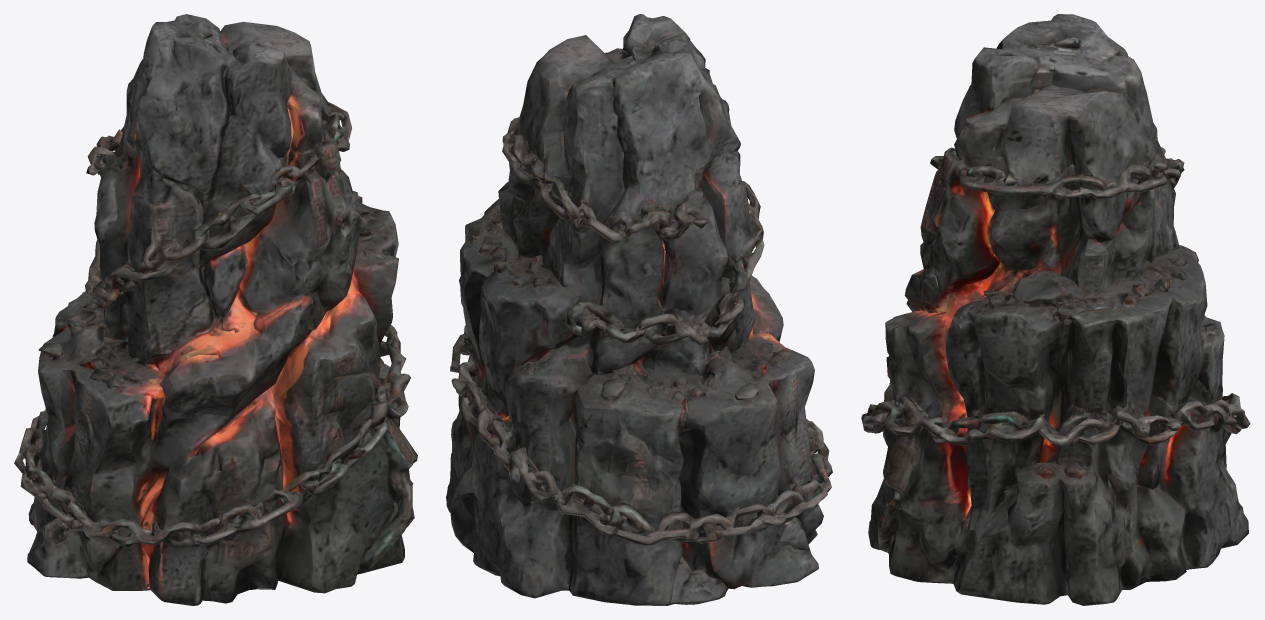
The model's file is lava-obelisk.glb.
The picture shows the model from 3 angles, left to right: view 1: azimuth 30°, elevation 25°; view 2: azimuth 150°, elevation 25°; view 3: azimuth 270°, elevation 25°; orthographic projection. The views are drawn at different scales.
Visible parts, largest first — view 1: geometry_0; view 2: geometry_0; view 3: geometry_0.
Boxes of the visible parts, x1=… form: geometry_0: x1=14, y1=14, x2=417, y2=605; geometry_0: x1=446, y1=14, x2=832, y2=605; geometry_0: x1=861, y1=14, x2=1250, y2=605.
Size of the model in its own units: 0.3295 by 0.4495 by 0.3247.
1 material, 1 textured.
